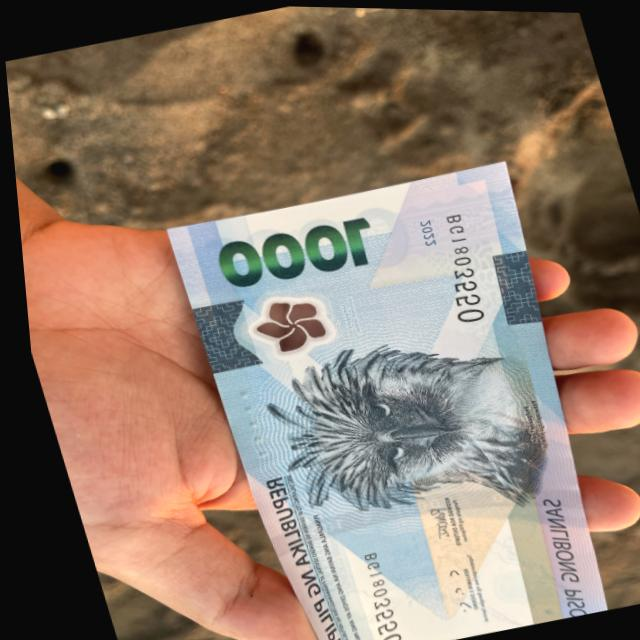eagle: (234, 318, 561, 552)
sampaguita: (221, 276, 339, 370)
